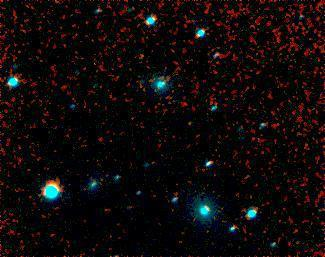star: (128, 39, 158, 69)
